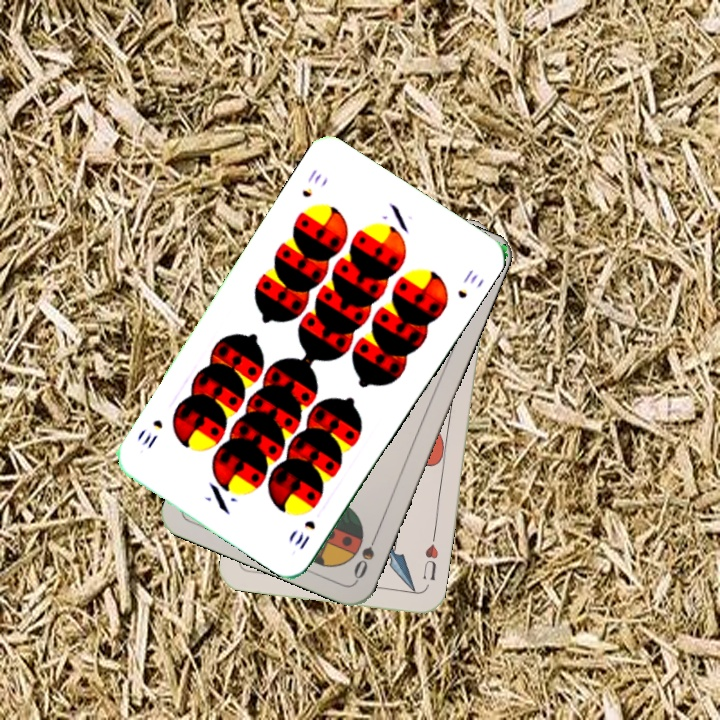HU: (419, 533, 441, 583)
S10: (290, 516, 318, 553), (298, 165, 324, 201)
SO: (349, 526, 382, 583)
